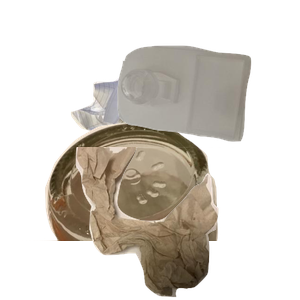glass: (22, 120, 233, 300)
paper: (68, 66, 215, 197)
plastic: (115, 43, 300, 177)
trash: (73, 147, 300, 300)
